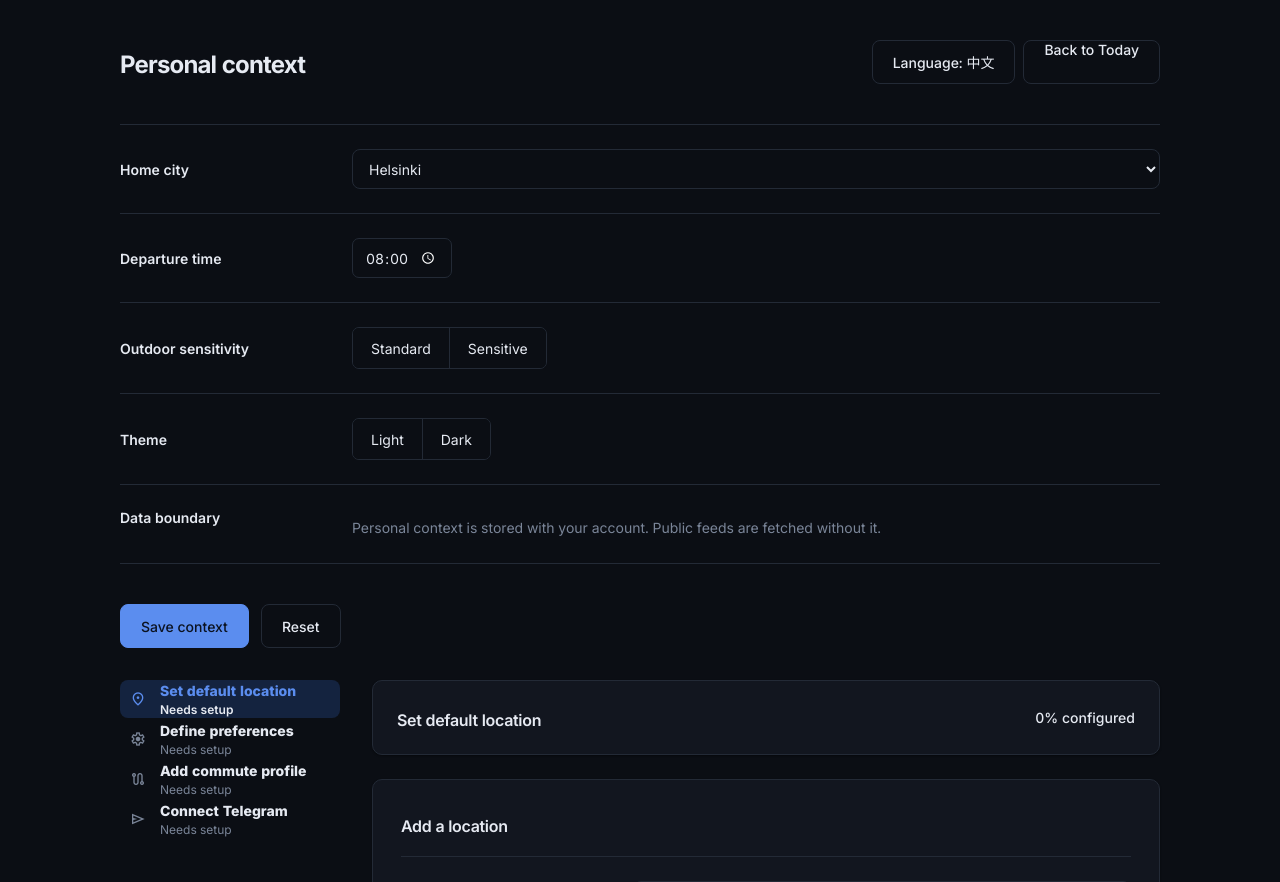
it: PersonalSettingsPage › keeps the browser title aligned with the selected language
Expected: the heading "Personal context" is shown, [120,52,305,78]
Click the button "Language: 中文".
click(944, 62)  # box [872,40,1015,84]
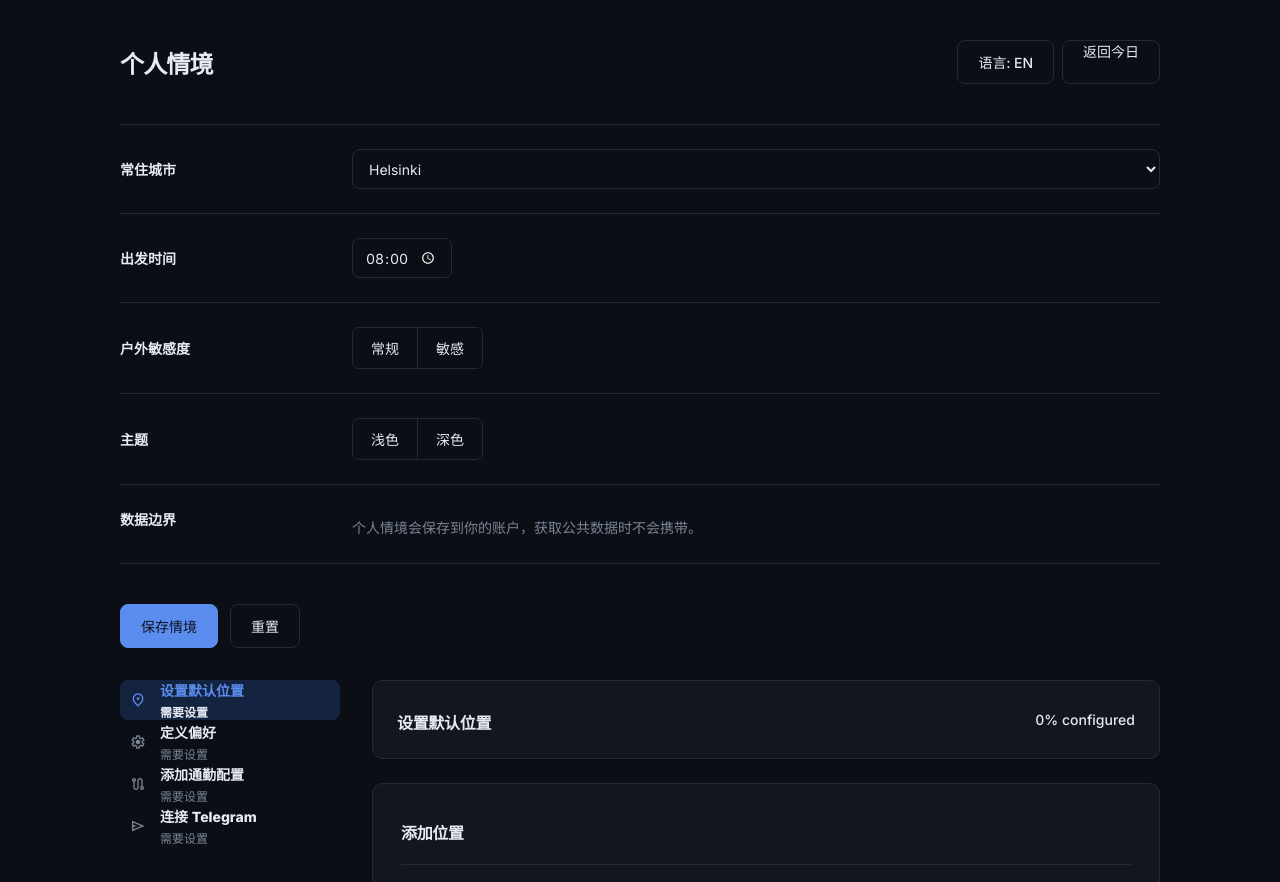
Expected: the heading "个人情境" is shown, [120,52,213,78]
